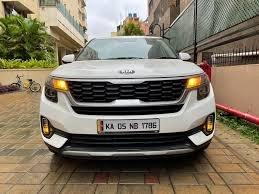Liscence Plate: (99, 120, 162, 134)
